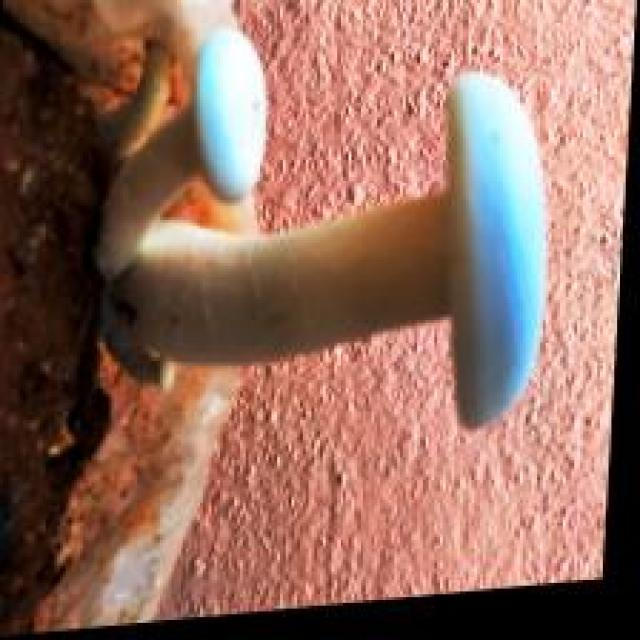death-cap: (440, 66, 551, 426)
